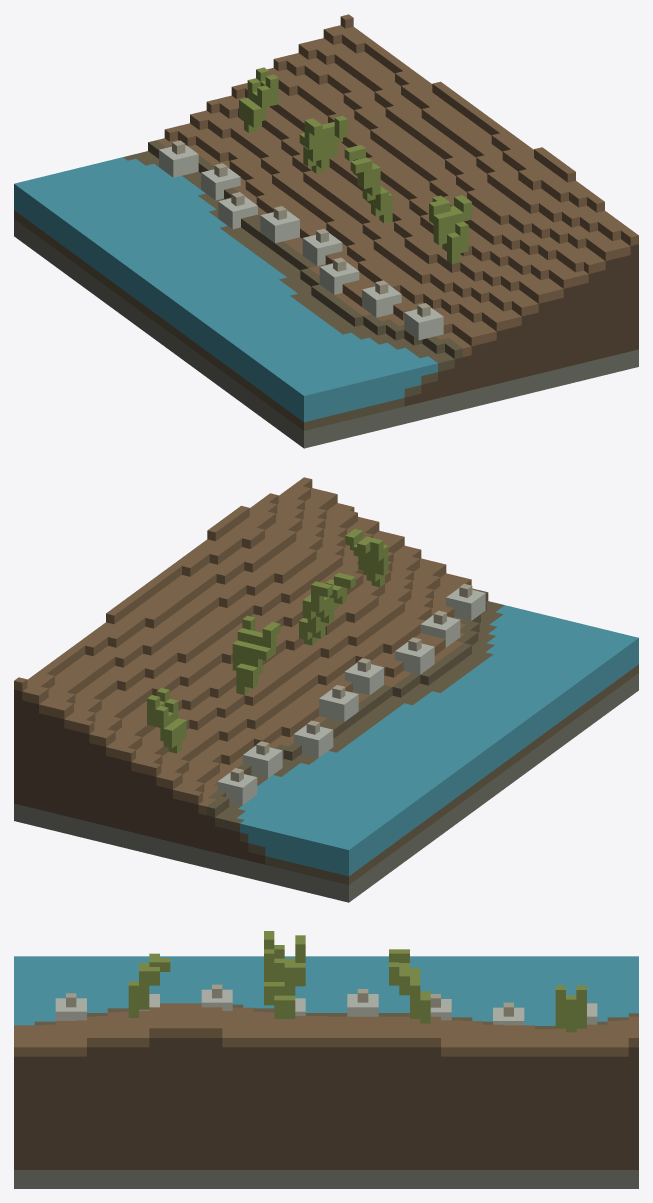
3 views of the same model, one above another, from view 1: azimuth 30°, elevation 25°; view 2: azimuth 150°, elevation 25°; view 3: azimuth 270°, elevation 25° (orthographic). The views are drawn at different scales.
Parts seen in each view (by area): view 1: 自然缓岸与陡岸断面族; view 2: 自然缓岸与陡岸断面族; view 3: 自然缓岸与陡岸断面族.
Boxes of the visible parts, x1,y1,x2,y2 form: 自然缓岸与陡岸断面族: [14, 14, 638, 448]; 自然缓岸与陡岸断面族: [14, 477, 638, 902]; 自然缓岸与陡岸断面族: [14, 931, 638, 1188].
Size of the model in its own units: 8 by 3.6 by 12.
8 materials, 7 textured.
